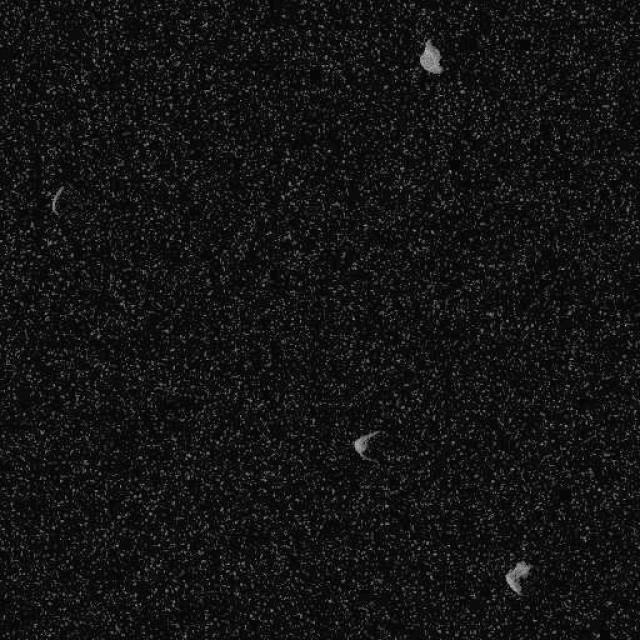D2: (417, 37, 445, 75), (352, 428, 382, 463), (504, 559, 531, 596), (49, 184, 65, 216)
